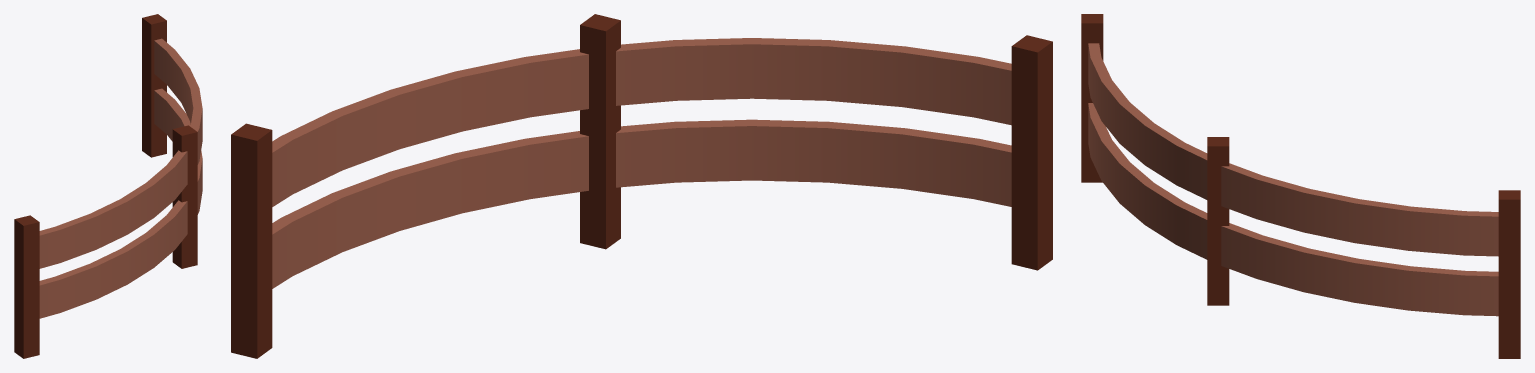
File: fence-curved.glb
3 views of the same model, side by side, from view 1: azimuth 30°, elevation 25°; view 2: azimuth 150°, elevation 25°; view 3: azimuth 270°, elevation 25° (orthographic). The views are drawn at different scales.
Parts seen in each view (by area): view 1: fence_classicRound%; view 2: fence_classicRound%; view 3: fence_classicRound%.
Boxes of the visible parts, left/top/right/bottom form: fence_classicRound%: left=14, top=14, right=202, bottom=358; fence_classicRound%: left=231, top=14, right=1052, bottom=358; fence_classicRound%: left=1081, top=14, right=1520, bottom=358.
Size of the model in its own units: 1 by 0.4 by 1.
